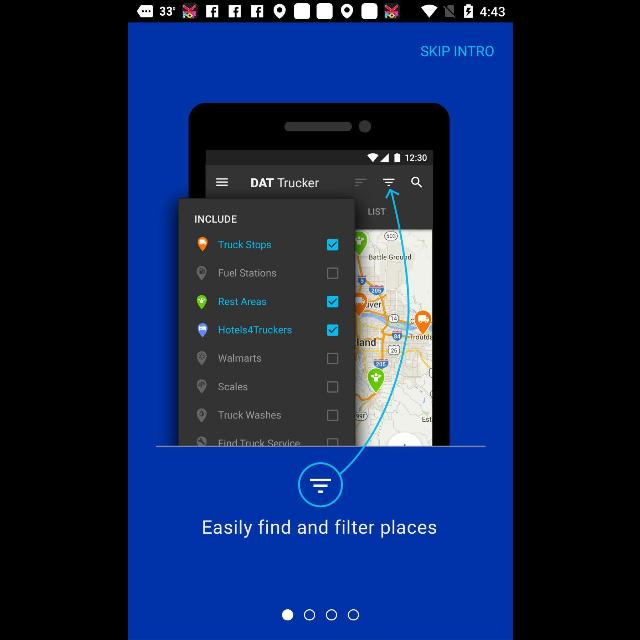image: (176, 102, 450, 508)
pageindicator: (281, 608, 359, 622)
text: (202, 520, 436, 538), (421, 46, 494, 58)
uppertaskbar: (128, 1, 512, 23)
